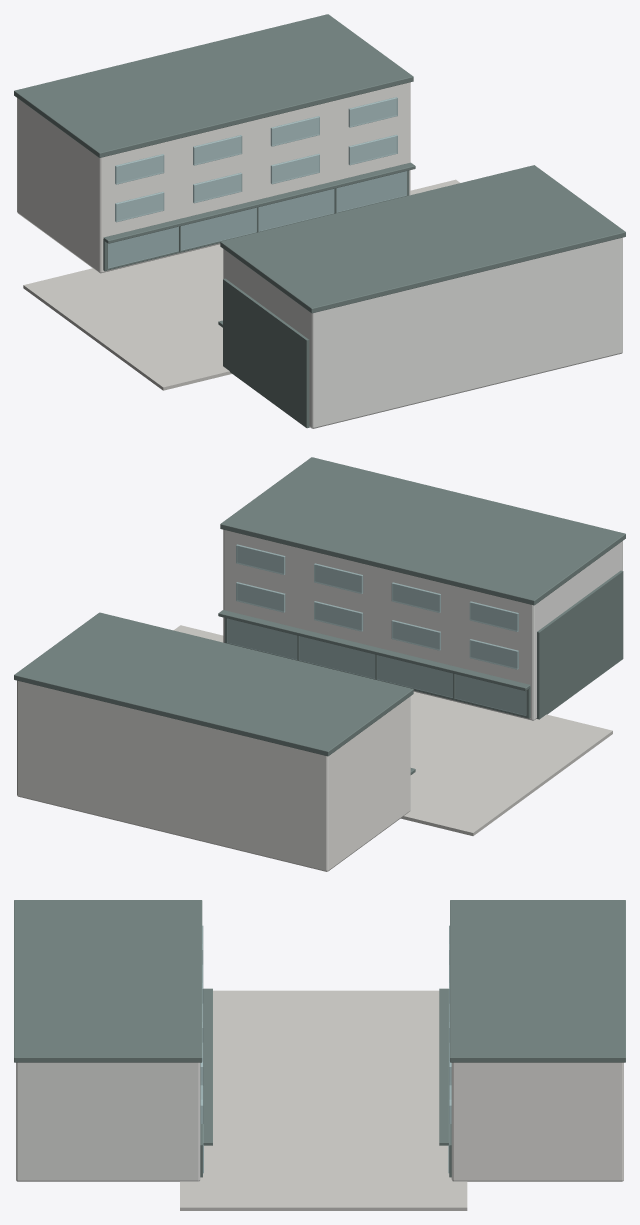
File: xingfuli-west-massing.glb
3 views of the same model, one above another, from view 1: azimuth 30°, elevation 25°; view 2: azimuth 150°, elevation 25°; view 3: azimuth 270°, elevation 25° (orthographic). The views are drawn at different scales.
Parts seen in each view (by area): view 1: xingfuli-west-massing; view 2: xingfuli-west-massing; view 3: xingfuli-west-massing.
Boxes of the visible parts, x1,y1,x2,y2 form: xingfuli-west-massing: (14,14,625,428); xingfuli-west-massing: (14,457,625,871); xingfuli-west-massing: (14,900,625,1210).
Size of the model in its own units: 25 by 6.89 by 29.83.
